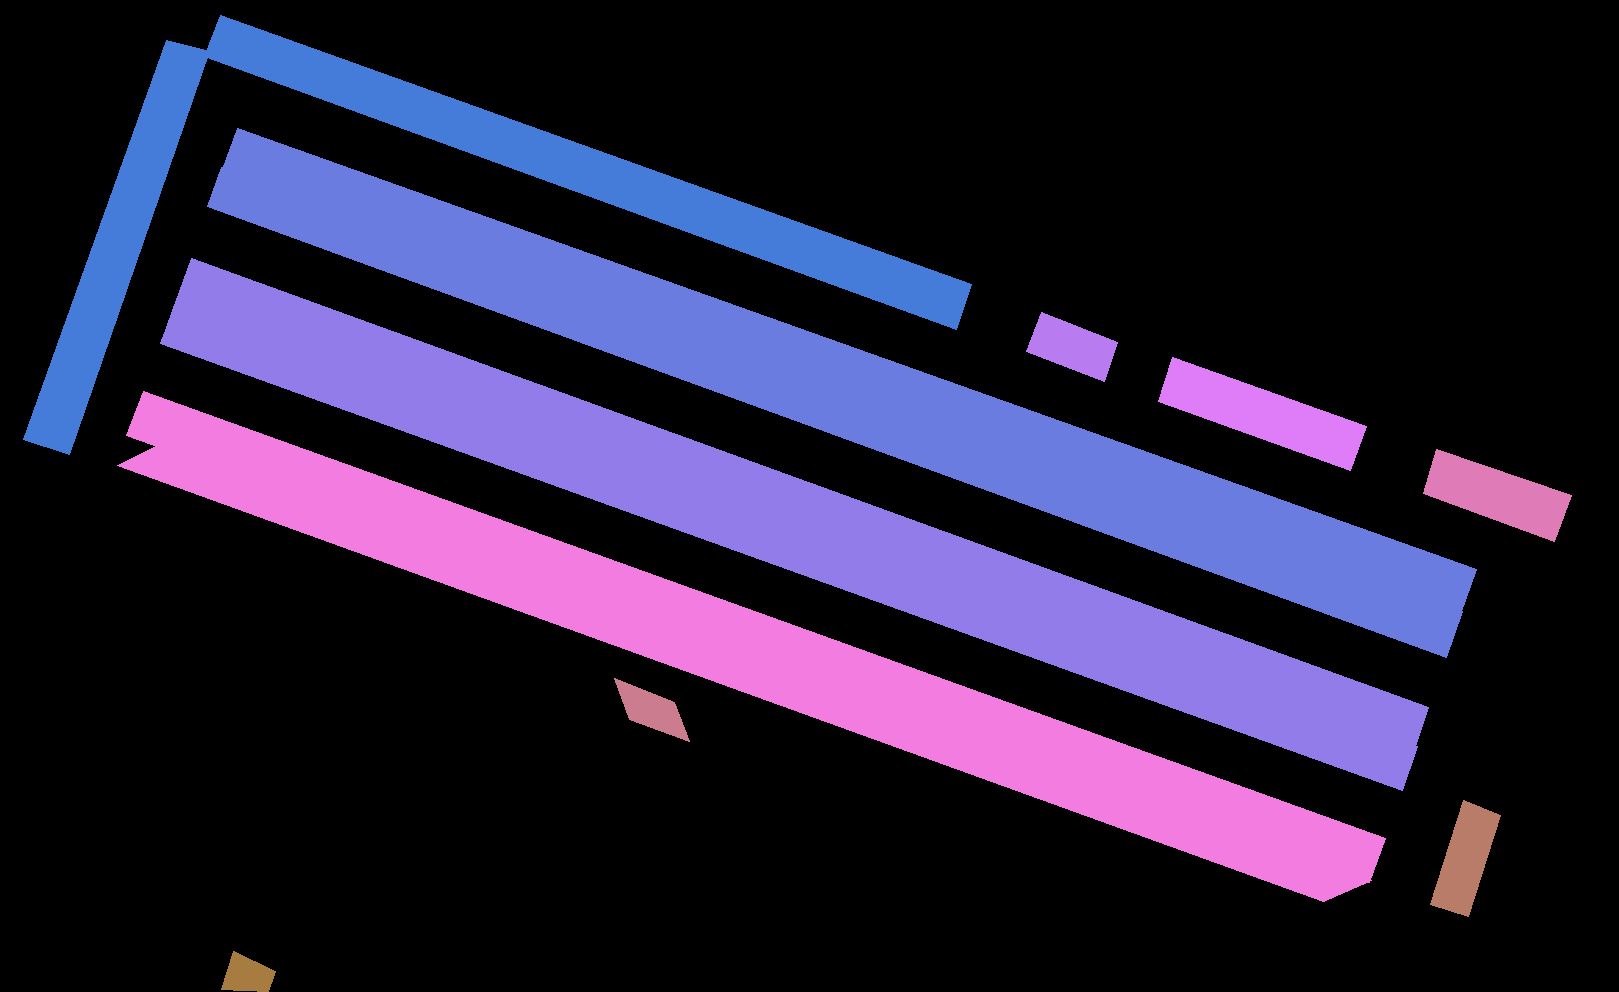parkingspot: (126, 391, 1385, 882), (160, 299, 1417, 790), (175, 258, 1428, 749), (207, 166, 1462, 657), (222, 128, 1476, 614), (117, 443, 1372, 901), (204, 15, 971, 330), (23, 40, 209, 454), (1158, 357, 1366, 471), (1424, 449, 1570, 541), (1431, 800, 1500, 916), (1026, 312, 1117, 382), (614, 678, 689, 741), (221, 952, 275, 991)
